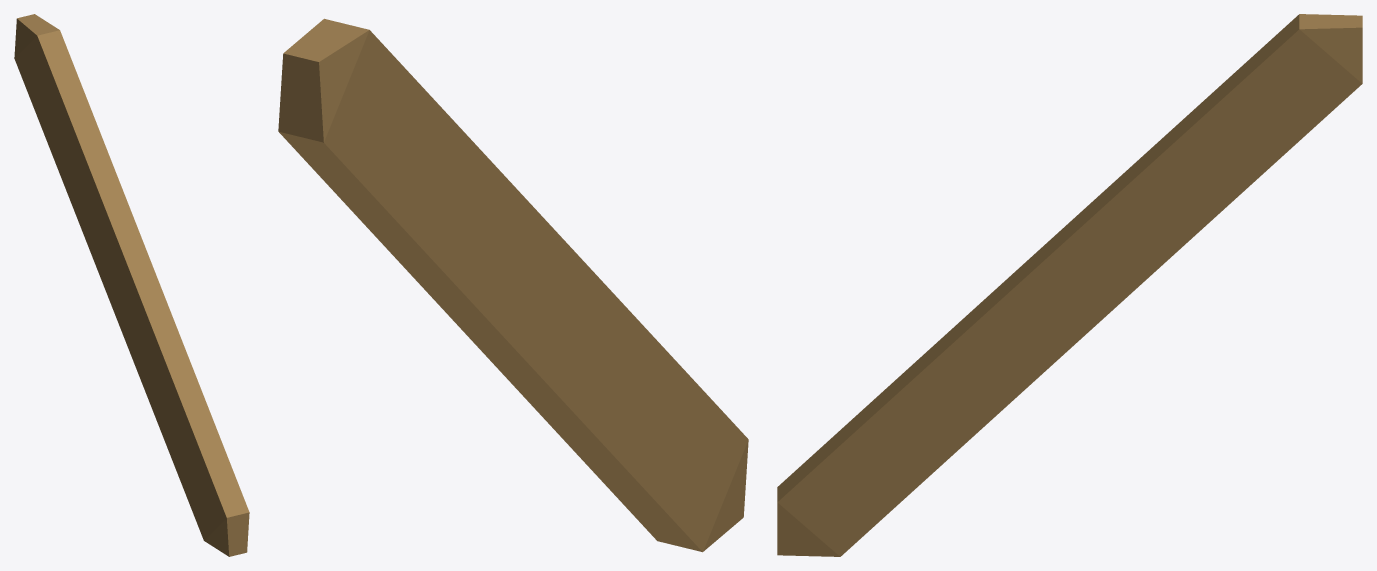
Rendered from RoofSideA.fbx.
3 renders of one model, left to right at view 1: azimuth 30°, elevation 25°; view 2: azimuth 150°, elevation 25°; view 3: azimuth 270°, elevation 25°, orthographic. The views are drawn at different scales.
Parts seen in each view (by area): view 1: RoofSideA; view 2: RoofSideA; view 3: RoofSideA.
Part boxes in pixels (bbox=[...]): RoofSideA: bbox=[14, 14, 249, 556]; RoofSideA: bbox=[278, 18, 748, 552]; RoofSideA: bbox=[777, 14, 1362, 556].
Size of the model in its own units: 13.88 by 223 by 224.
